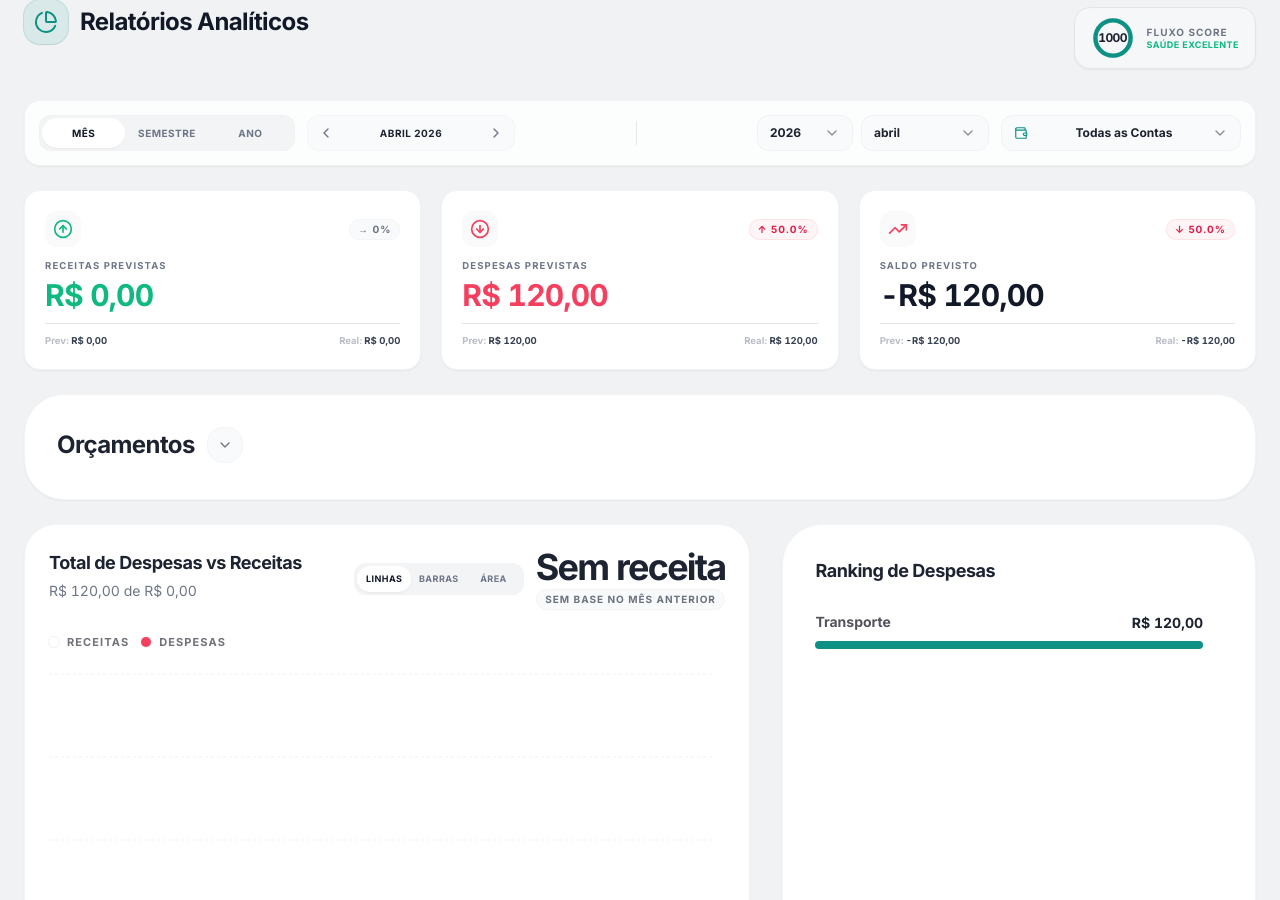
Test case: ReportsDashboard - categoria de acordo › atualiza a Analise de Categoria ao clicar em uma categoria real na composicao das despesas
Step 1. Click the button with test id "category-ranking-bar-" → coordinates (853, 621), box [807,604,1211,656]
(page scrolled)
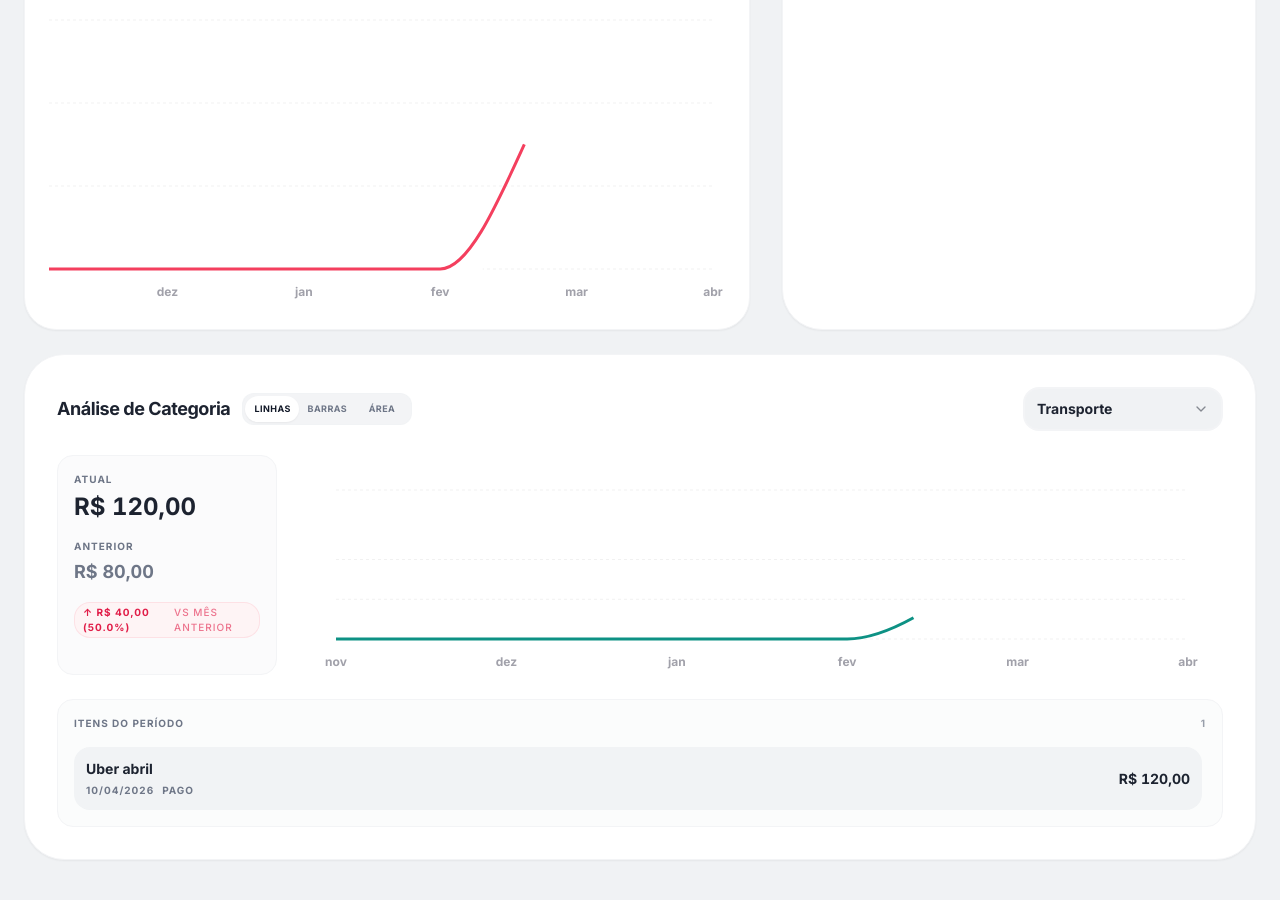
Expected: the text "R$ 120,00" below "Atual" is shown, [74,492,196,521]
Expected: the text "R$ 80,00" is shown, [74,561,154,582]
